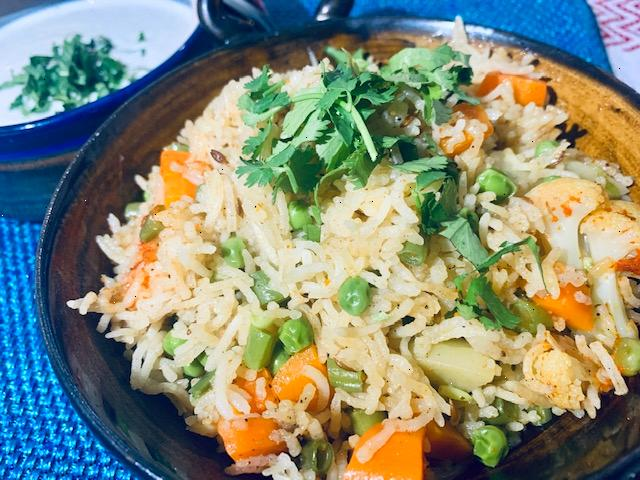veg-pulao: (133, 54, 640, 480)
